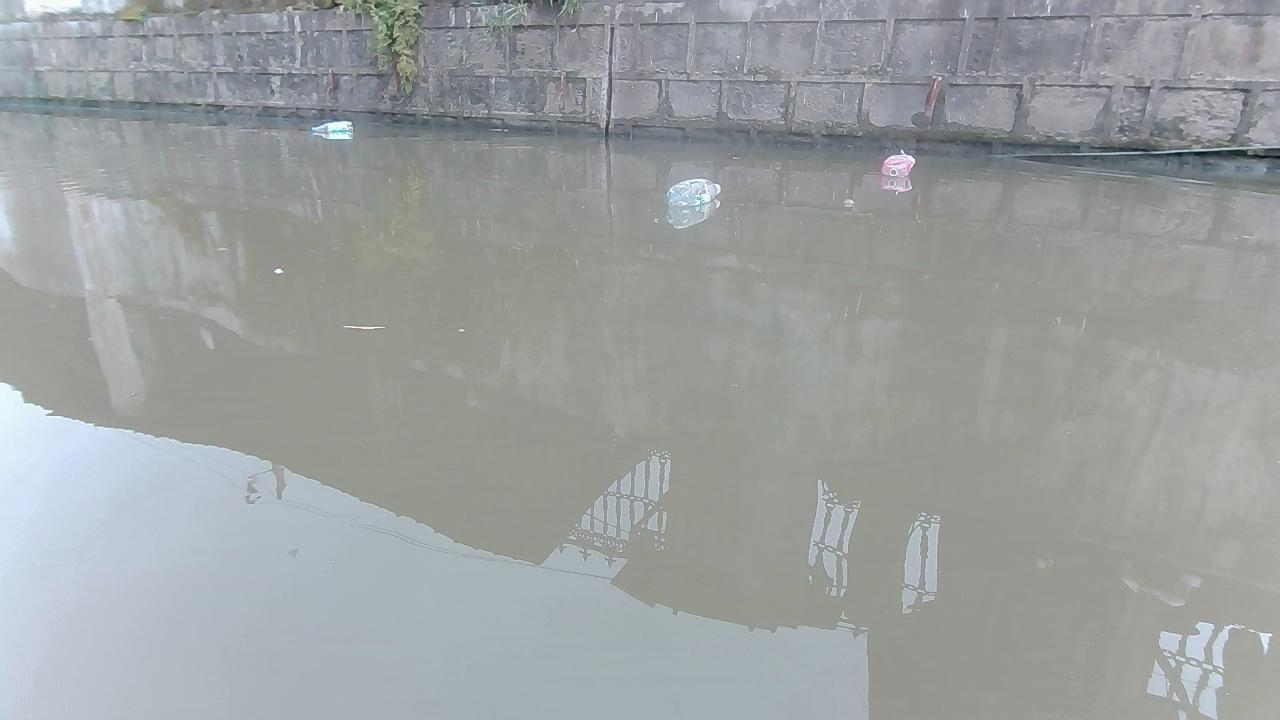Metal: (666, 178, 723, 207), (880, 153, 917, 179), (311, 120, 354, 133)
